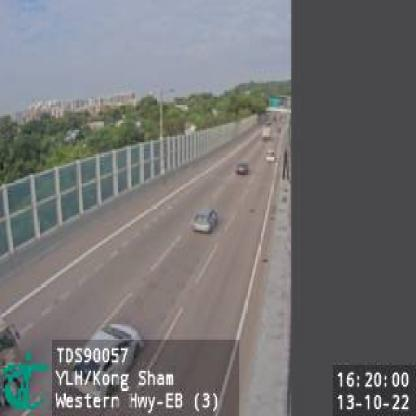Car: (70, 322, 148, 402), (191, 205, 219, 234), (237, 162, 250, 176), (265, 149, 276, 164)
